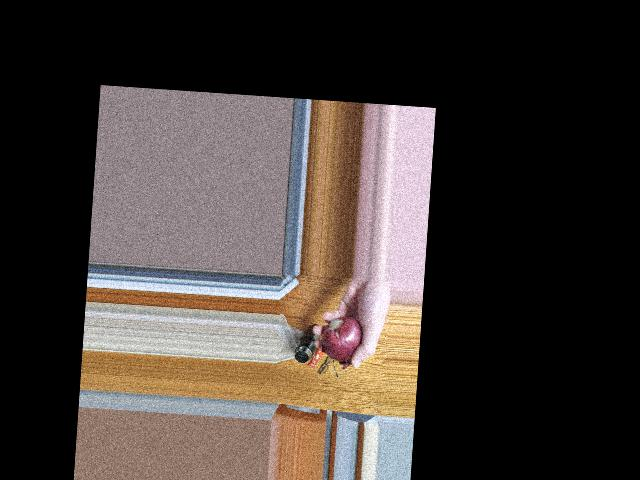onion: (323, 325, 358, 360)
